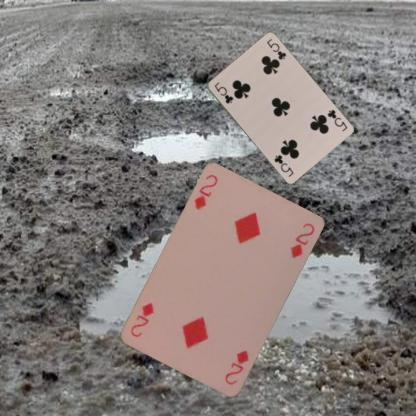2d: (191, 172, 219, 212), (223, 347, 250, 387)
5c: (211, 79, 234, 105), (325, 107, 348, 133)
